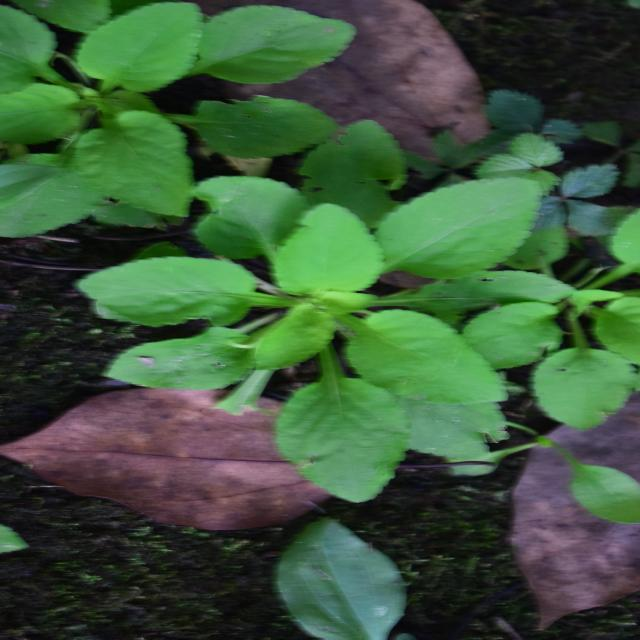Viola: (160, 75, 479, 527)
